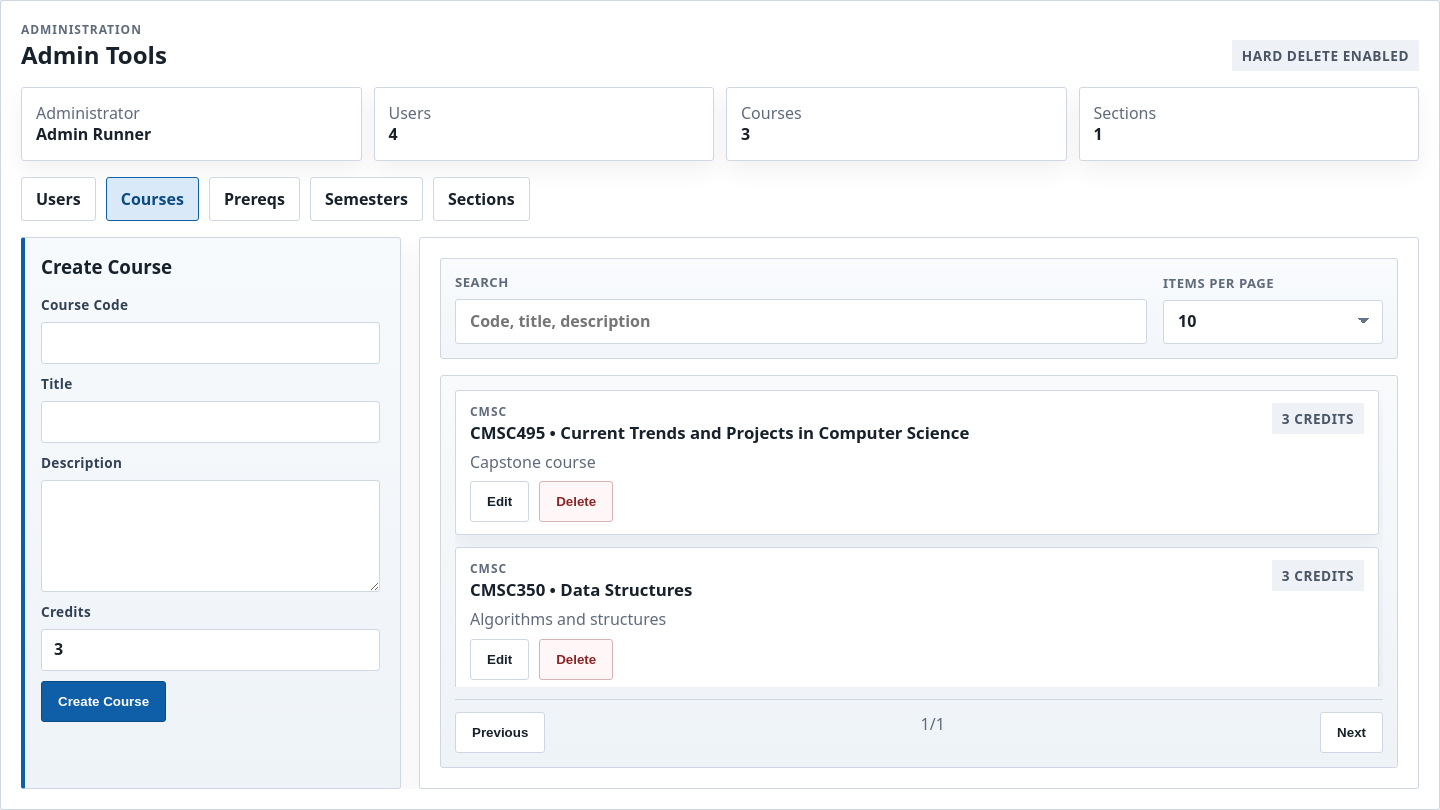
Test: AdminConsolePage › creates a course and shows a workflow-local success message
In the field labelled "Course Code": (210, 343) [41,322,380,364], type "cmsc430"
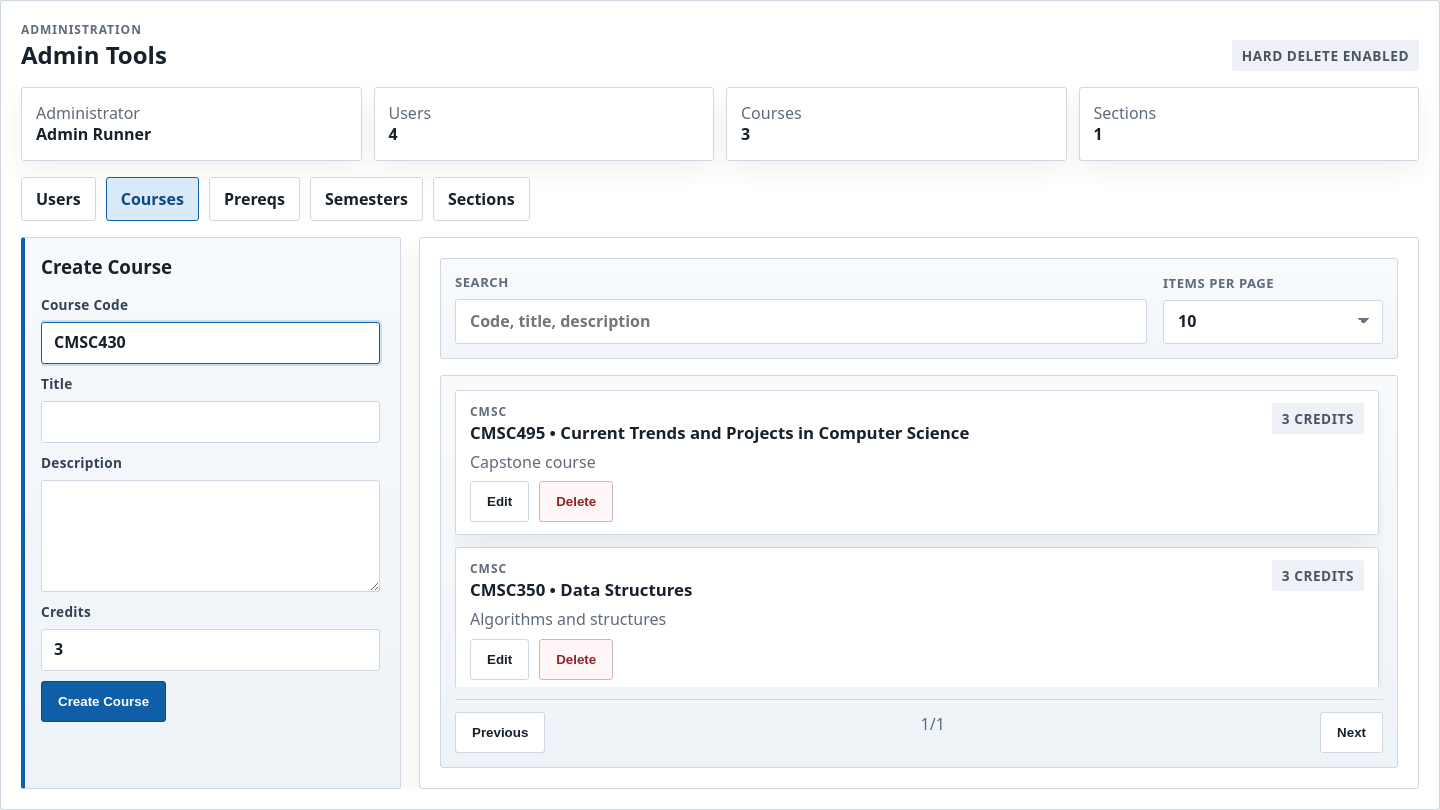
In the field labelled "Title": (210, 422) [41,401,380,443], type "Compiler Theory"
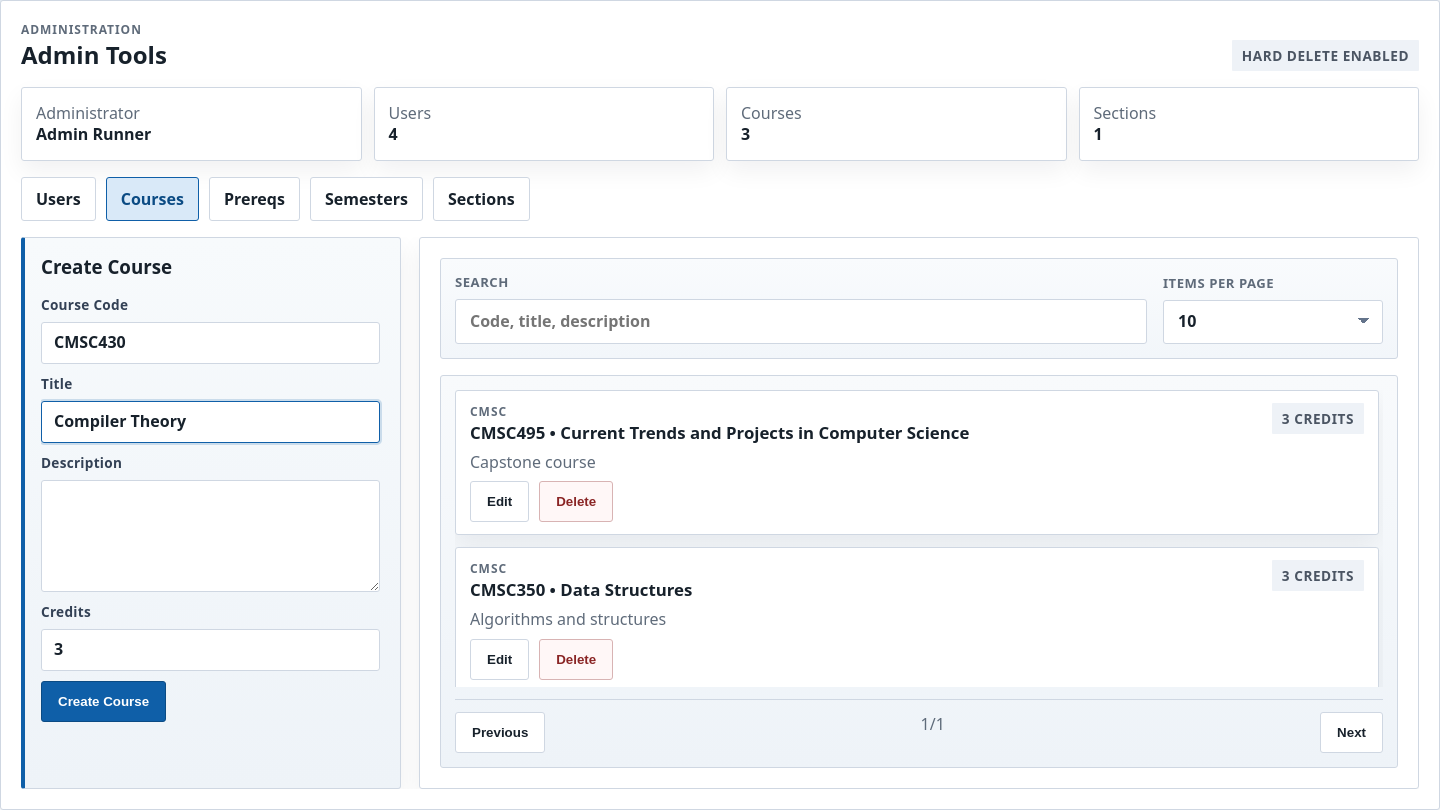
In the text box labelled "Description": (210, 536) [41,480,380,592], type "Compiler construction"
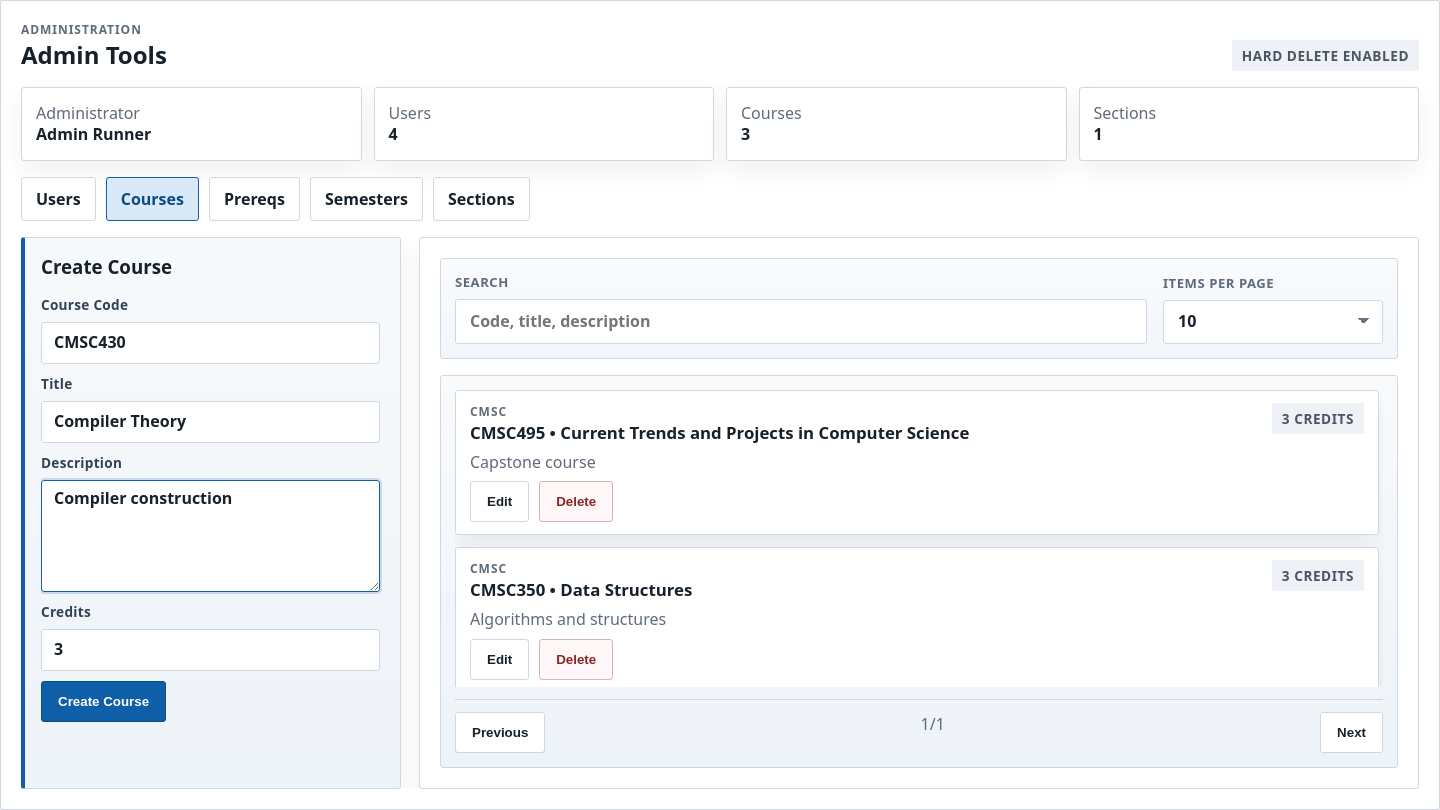
Replace the text in the number field labelled "Credits" with "4": (210, 650) [41,629,380,671]
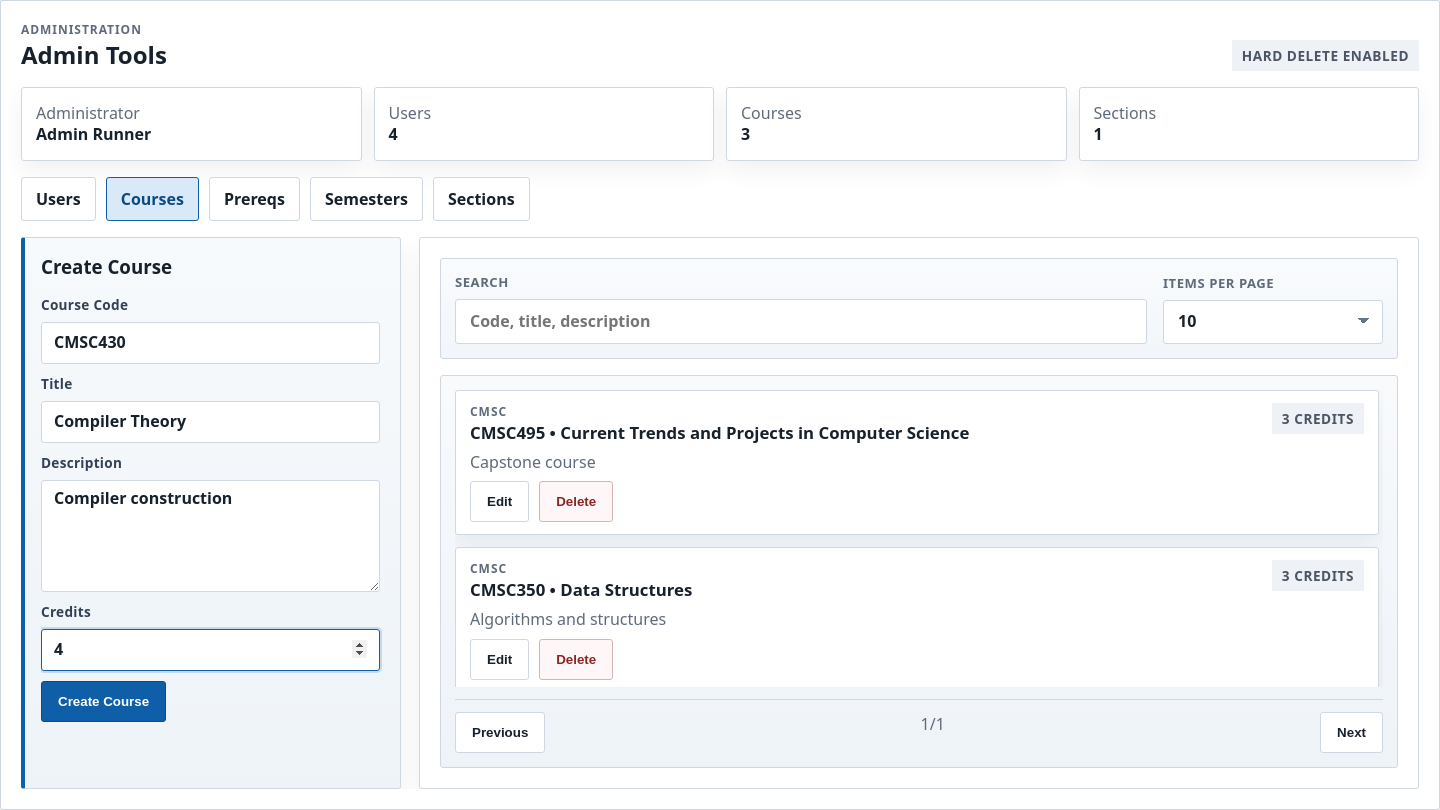
Click the button "Create Course": click(104, 701) [41,681,166,722]
(page scrolled)
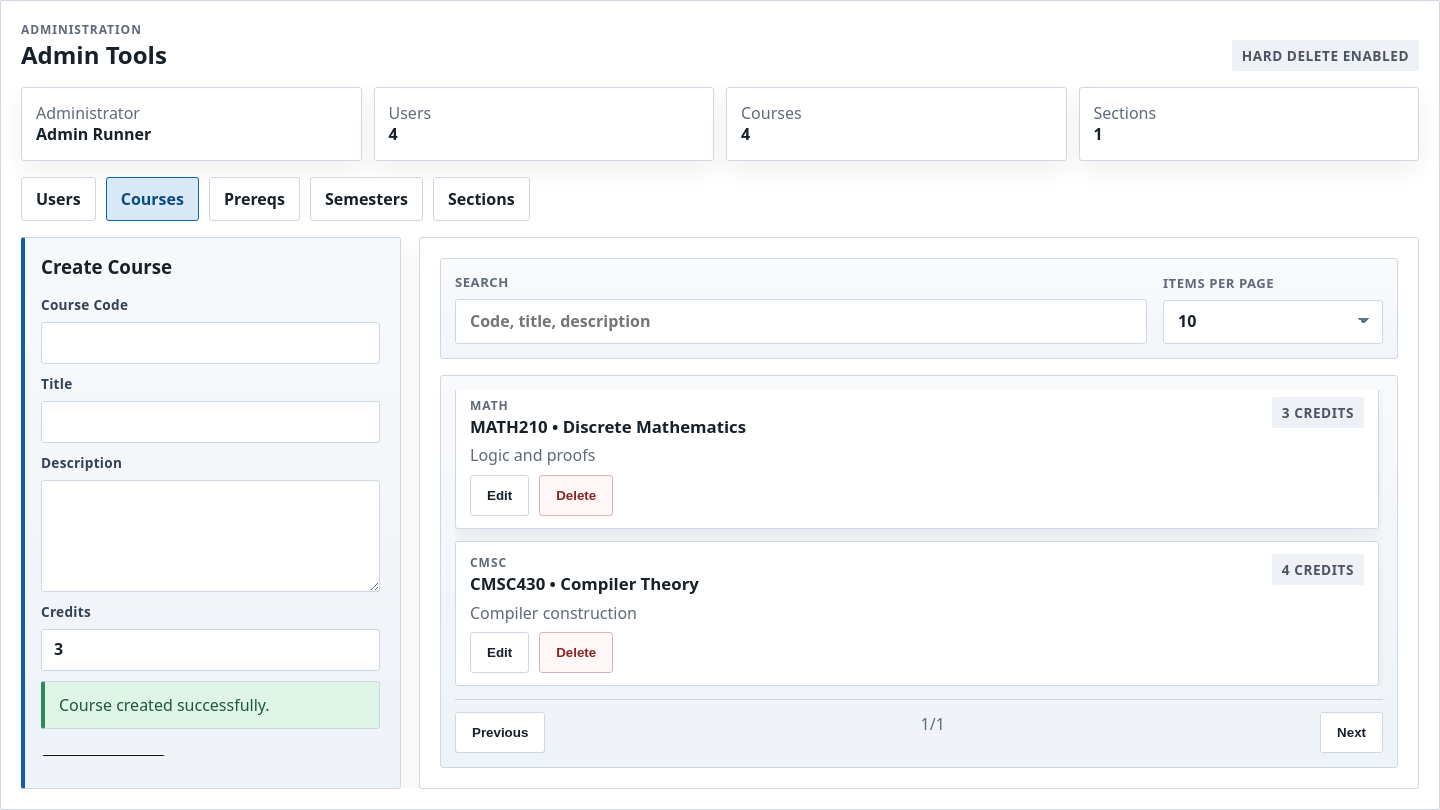
Result: the text "Course created successfully." is shown at [41,681,380,729]
Result: the heading "CMSC430 • Compiler Theory" is shown at [470,573,699,595]
